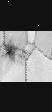good_void: (0, 41, 19, 62)
